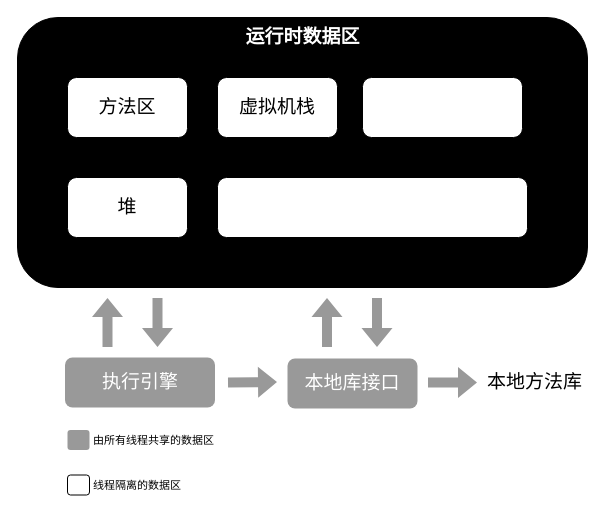
This 605x513 diagram has some shape labels left out. The box of each missing label's shape, as (x1, y1, x2, y2) in pixels:
本地方法栈: (362, 76, 522, 138)
程序计数器: (216, 176, 528, 238)
